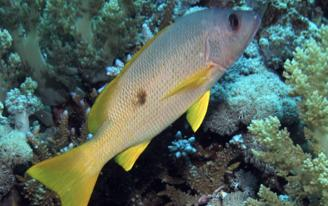Lutjanidae -Snappers-: (22, 6, 268, 206)
